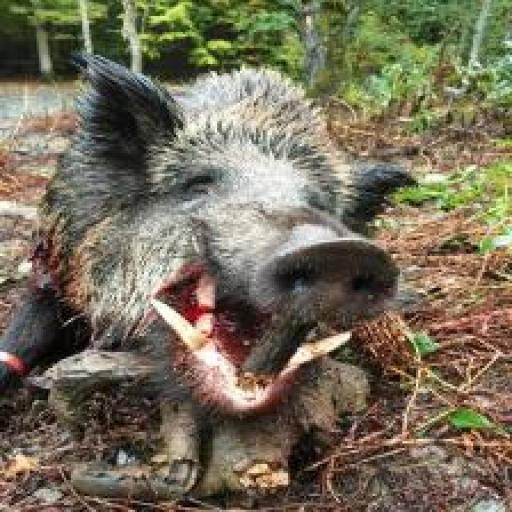Pig: (2, 50, 420, 422)
